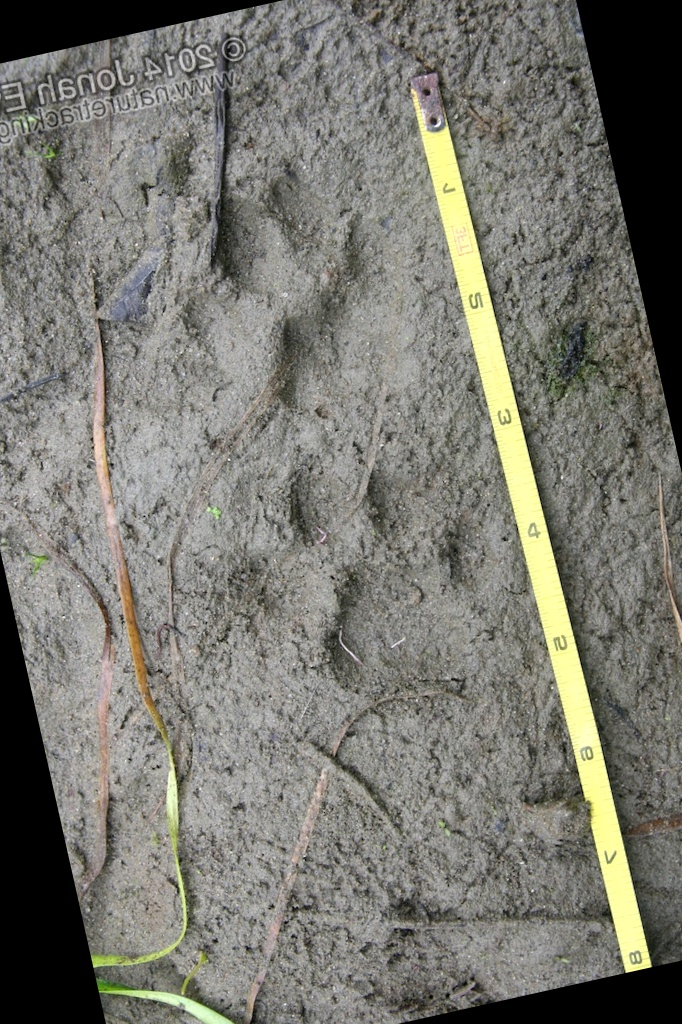lynx: (188, 411, 555, 785), (175, 131, 455, 488)
